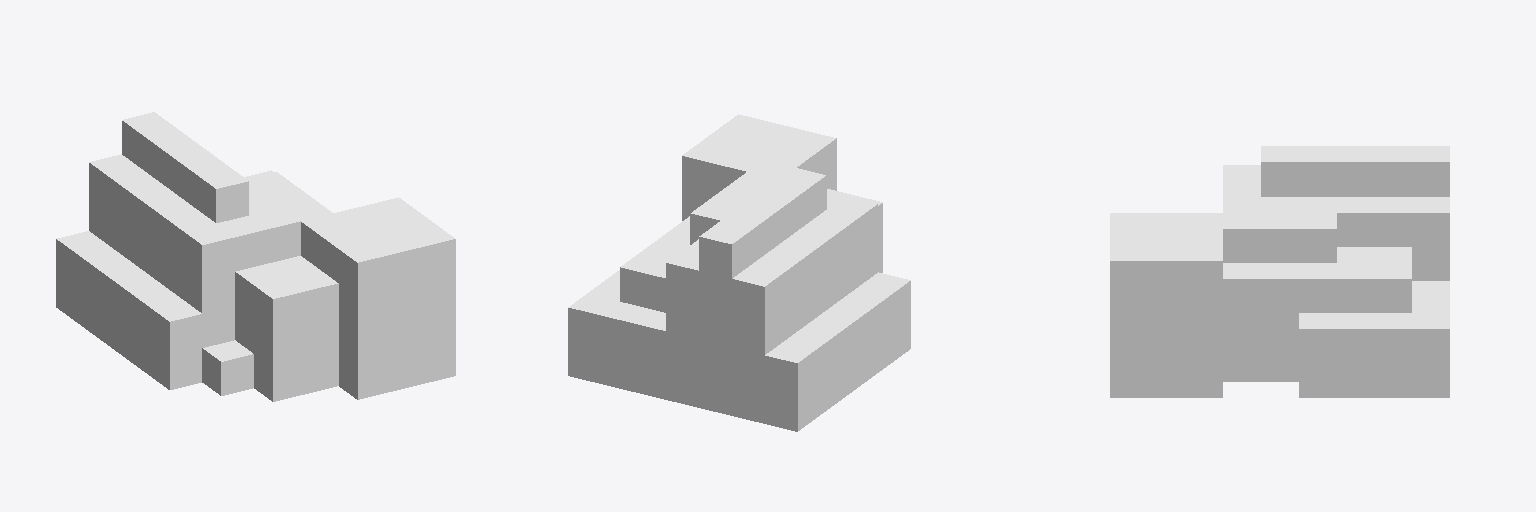
The model's file is Brush-0.obj.
3 views of the same model, side by side, from view 1: azimuth 30°, elevation 25°; view 2: azimuth 150°, elevation 25°; view 3: azimuth 270°, elevation 25° (orthographic).
Visible parts, largest first — view 1: object 1; view 2: object 1; view 3: object 1.
Boxes of the visible parts, x1=… form: object 1: x1=56, y1=112, x2=455, y2=401; object 1: x1=568, y1=114, x2=910, y2=431; object 1: x1=1110, y1=146, x2=1449, y2=397.
Bounding box in the file's own units: 0.7 × 0.5 × 0.9.